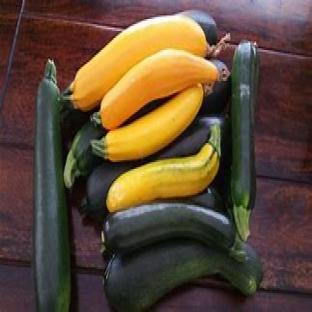Zucchini: (104, 240, 262, 311), (107, 125, 220, 212), (32, 61, 70, 311), (103, 200, 235, 253), (231, 42, 259, 239), (147, 116, 230, 170), (79, 161, 140, 222), (64, 121, 105, 187), (180, 11, 217, 44), (199, 76, 230, 115)
